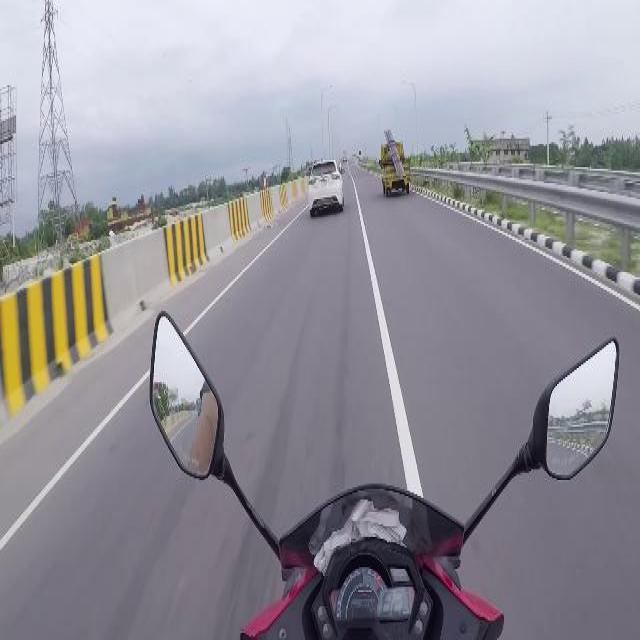motorbike: (148, 299, 620, 633)
pickup: (378, 140, 412, 198)
suv: (306, 160, 346, 217)
